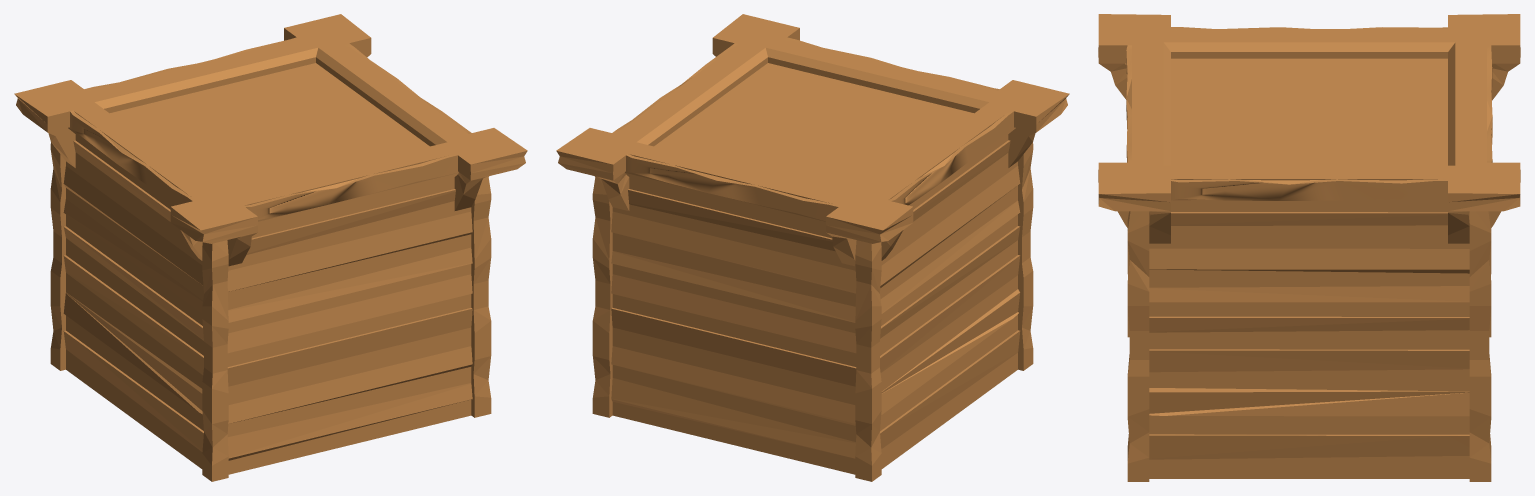
Rendered from Fund3.fbx.
3 views of the same model, side by side, from view 1: azimuth 30°, elevation 25°; view 2: azimuth 150°, elevation 25°; view 3: azimuth 270°, elevation 25° (orthographic). The views are drawn at different scales.
Visible parts, largest first — view 1: WallWood1, WallWood2_2, G_79_2, G_79_3, G_17_3, G_16_2, G_79_1, G_16_3, G_16_1, G_17_4, G_16_4; view 2: G_26_1, WallWood1, WallWood2_2, G_79_1, G_79_4, G_17_1, G_16_1, G_79_2, G_16_4, G_16_2, G_17_4, G_16_3; view 3: WallWood2_1, WallWood1, G_79_3, G_79_4, G_17_2, G_16_3, G_16_4, G_16_2, G_16_1, G_17_3, G_17_1, WallWood2_2 (+1 smaller).
Part boxes in pixels (left/top/right/bottom): WallWood1: left=60, top=33, right=483, bottom=474; WallWood2_2: left=63, top=103, right=213, bottom=468; G_79_2: left=202, top=207, right=228, bottom=481; G_79_3: left=471, top=140, right=491, bottom=417; G_17_3: left=243, top=153, right=457, bottom=219; G_16_2: left=170, top=200, right=257, bottom=266; G_79_1: left=50, top=96, right=65, bottom=370; G_16_3: left=454, top=128, right=527, bottom=210; G_16_1: left=14, top=80, right=86, bottom=167; G_17_4: left=70, top=110, right=197, bottom=205; G_16_4: left=284, top=14, right=371, bottom=57; G_26_1: left=600, top=33, right=880, bottom=474; WallWood1: left=602, top=32, right=1023, bottom=211; WallWood2_2: left=870, top=103, right=1020, bottom=468; G_79_1: left=855, top=207, right=881, bottom=481; G_79_4: left=592, top=140, right=612, bottom=417; G_17_1: left=626, top=154, right=841, bottom=221; G_16_1: left=826, top=200, right=913, bottom=266; G_79_2: left=1018, top=96, right=1033, bottom=370; G_16_4: left=556, top=128, right=629, bottom=210; G_16_2: left=998, top=80, right=1069, bottom=167; G_17_4: left=888, top=110, right=1013, bottom=205; G_16_3: left=712, top=14, right=799, bottom=56; WallWood2_1: left=1134, top=178, right=1484, bottom=478; WallWood1: left=1132, top=30, right=1484, bottom=177; G_79_3: left=1127, top=178, right=1149, bottom=481; G_79_4: left=1469, top=178, right=1491, bottom=481; G_17_2: left=1171, top=178, right=1447, bottom=200; G_16_3: left=1098, top=162, right=1170, bottom=243; G_16_4: left=1448, top=162, right=1520, bottom=243; G_16_2: left=1098, top=14, right=1170, bottom=99; G_16_1: left=1448, top=14, right=1520, bottom=100; G_17_3: left=1126, top=45, right=1134, bottom=162; G_17_1: left=1486, top=45, right=1492, bottom=162; WallWood2_2: left=1136, top=29, right=1483, bottom=30.
Bounding box in the file's own units: 2951 × 2300 × 2923.
